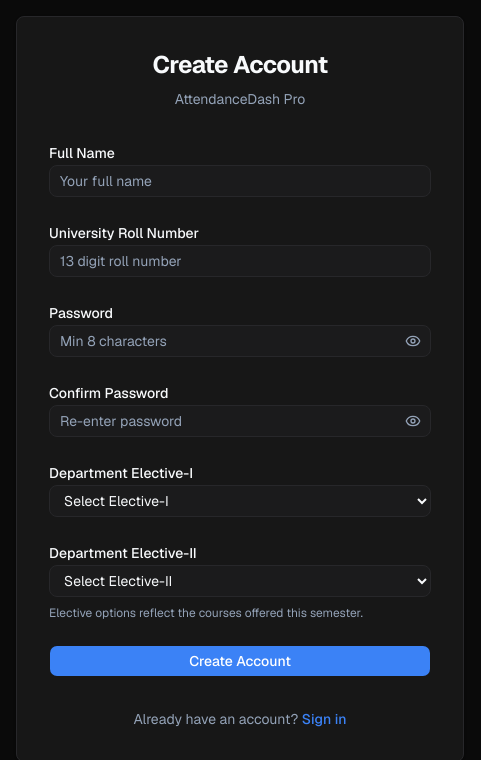
Test case: UIA-015: signup accessibility › reflects the visible/hidden state on each toggle
Click the button named "Show password" at {"x": 413, "y": 341}, box left=395, top=325, right=431, bottom=357
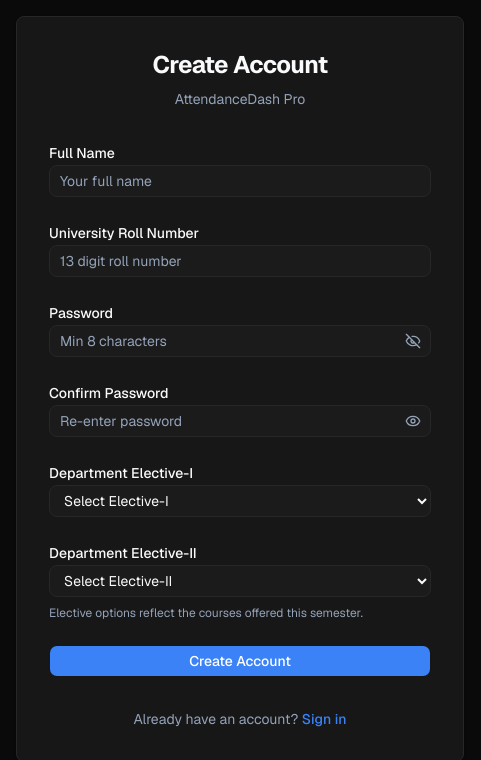
Expected: the button named "Show confirm password" is shown, left=395, top=405, right=431, bottom=437
Expected: the button named "Hide password" is shown, left=395, top=325, right=431, bottom=357
